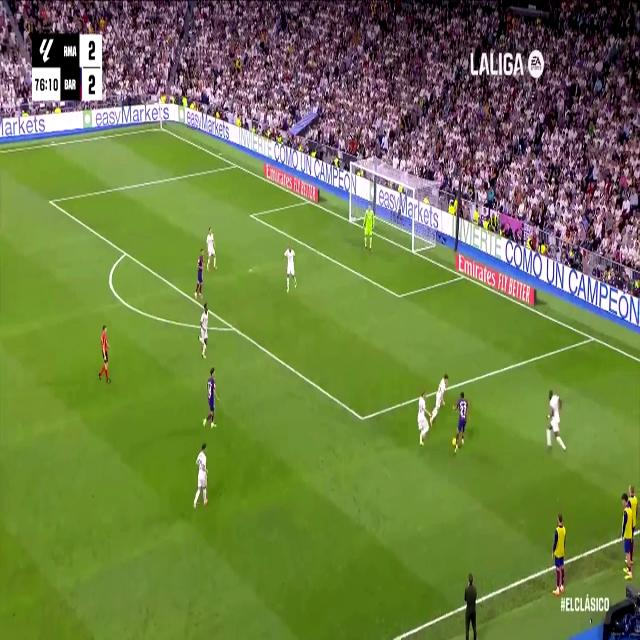bigarea_bottom_inner: (356, 404, 368, 432)
bigarea_bottom_outter: (588, 329, 598, 346)
bigarea_top_inner: (46, 192, 55, 210)
bottom_arc_area_intersection: (228, 318, 238, 337)
corner: (157, 122, 165, 133)
smallarea_bottom_inner: (395, 285, 403, 306)
smallarea_top_inner: (249, 210, 254, 220)
top_arc_area_intersection: (121, 243, 130, 260)
